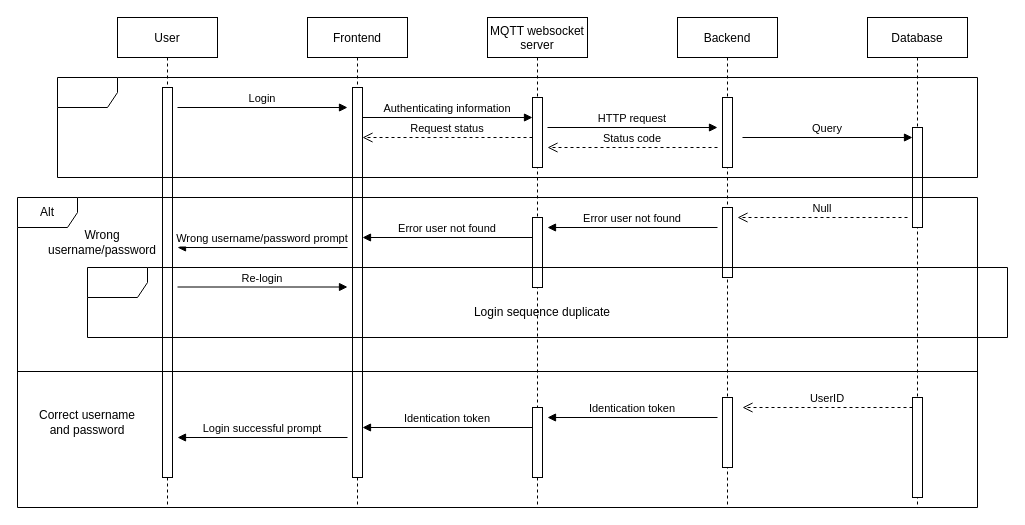
This 1025x525 diagram has some shape labels left out. The centre of each missing label's shape, as x and y in pixels:
Login sequence: [517,127]
Loop: [547,302]
